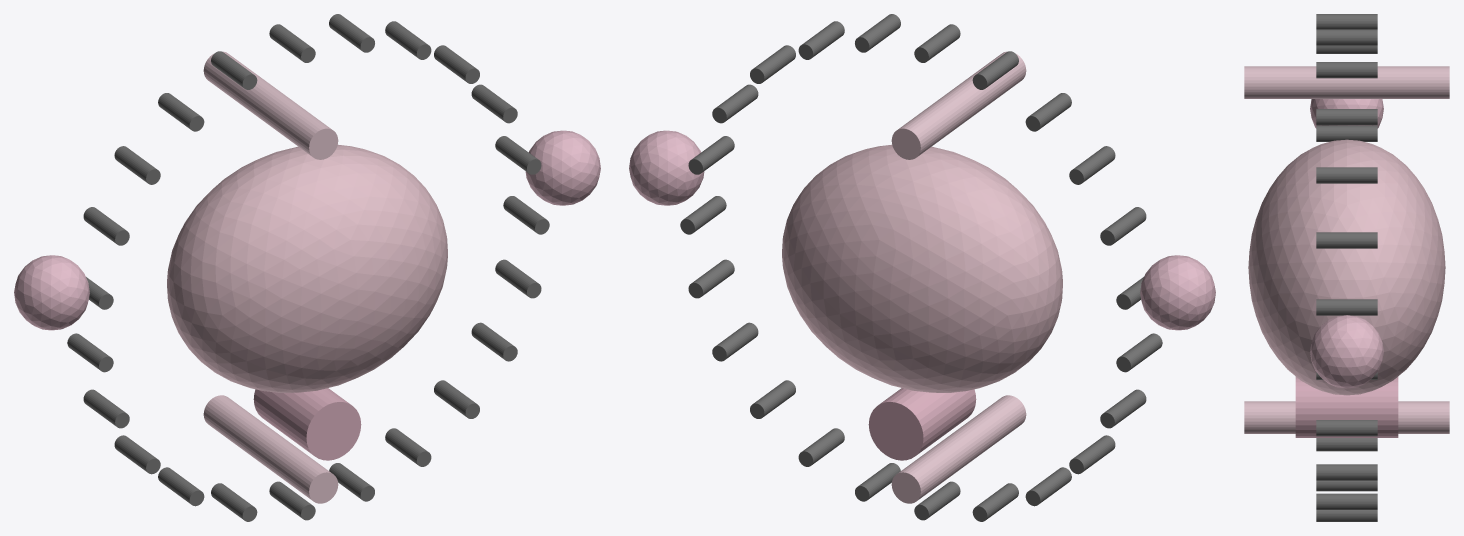
Rendered from uterus_stethoscope.glb.
3 views of the same model, side by side, from view 1: azimuth 30°, elevation 25°; view 2: azimuth 150°, elevation 25°; view 3: azimuth 270°, elevation 25° (orthographic). The views are drawn at different scales.
Parts seen in each view (by area): view 1: world; view 2: world; view 3: world.
Boxes of the visible parts, x1,y1,x2,y2 form: world: (14,14,600,521); world: (629,14,1215,521); world: (1244,14,1449,521).
Bounding box in the file's own units: 3.16 × 2.47 × 1.
